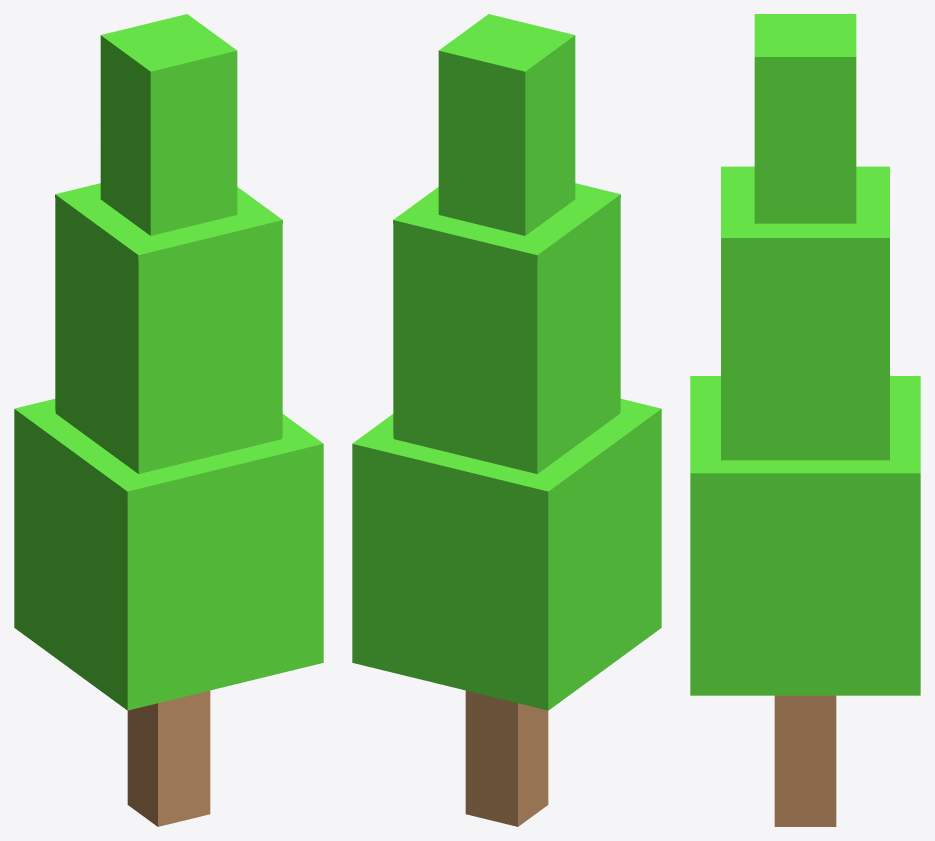
The model's file is trees_5_dark.fbx.
3 views of the same model, side by side, from view 1: azimuth 30°, elevation 25°; view 2: azimuth 150°, elevation 25°; view 3: azimuth 270°, elevation 25° (orthographic).
Visible parts, largest first — view 1: Cube.058; view 2: Cube.058; view 3: Cube.058.
Boxes of the visible parts, left/top/right/bottom form: Cube.058: left=14, top=14, right=323, bottom=826; Cube.058: left=352, top=14, right=661, bottom=826; Cube.058: left=690, top=14, right=920, bottom=826.
Bounding box in the file's own units: 375 × 1400 × 375.
1 material, 1 textured.
